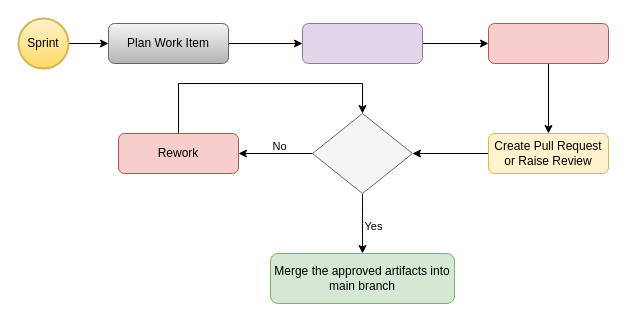
Image size: 626x321. Some labels were removed from this diagram. Here are the shapes that lost their labels. From the top down, the box of each, then its label:
(302, 22, 422, 64): Create Branch
(488, 22, 608, 64): Execute the work item
(312, 112, 412, 194): Work Item acceptable ?
